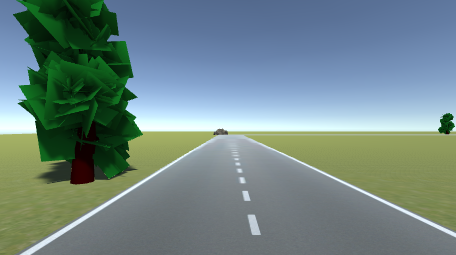rock: (212, 127, 229, 136)
tree: (12, 1, 135, 185), (438, 112, 455, 137)
